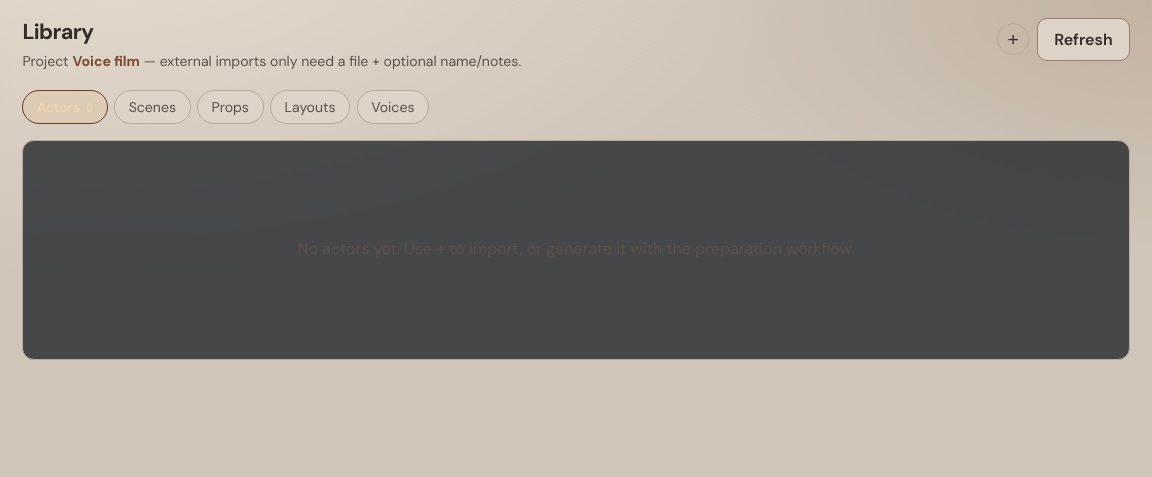
it: LibraryPage Voices › shows a Voice asset as playable H3-ready audio
Click the button "Voices". click: x=393, y=107
box: [356,90,429,124]
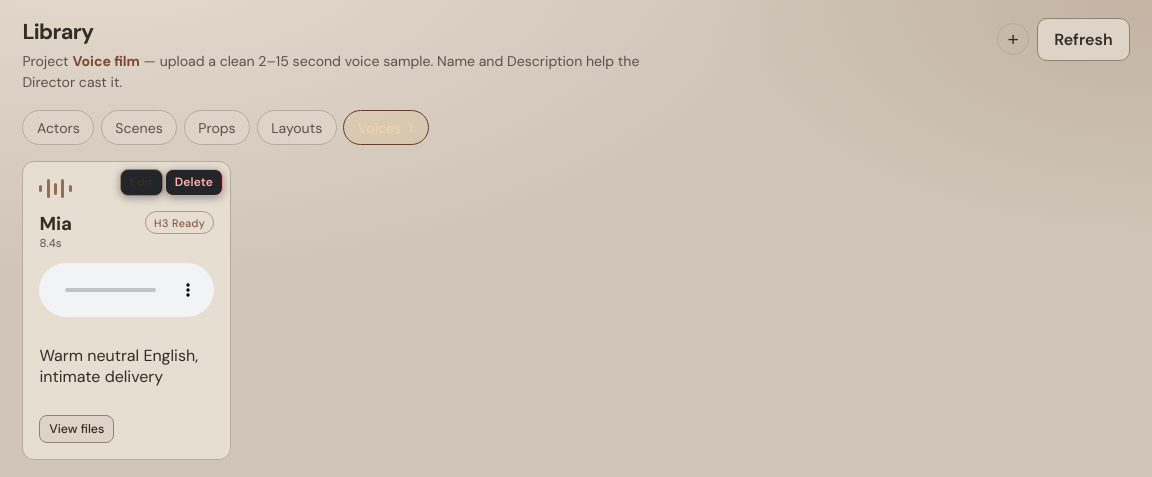
Result: the heading "Mia" is shown at [39,211,72,236]
Result: the text "8.4s" is shown at [39,236,62,251]
Result: the text "H3 Ready" is shown at [145,211,214,234]
